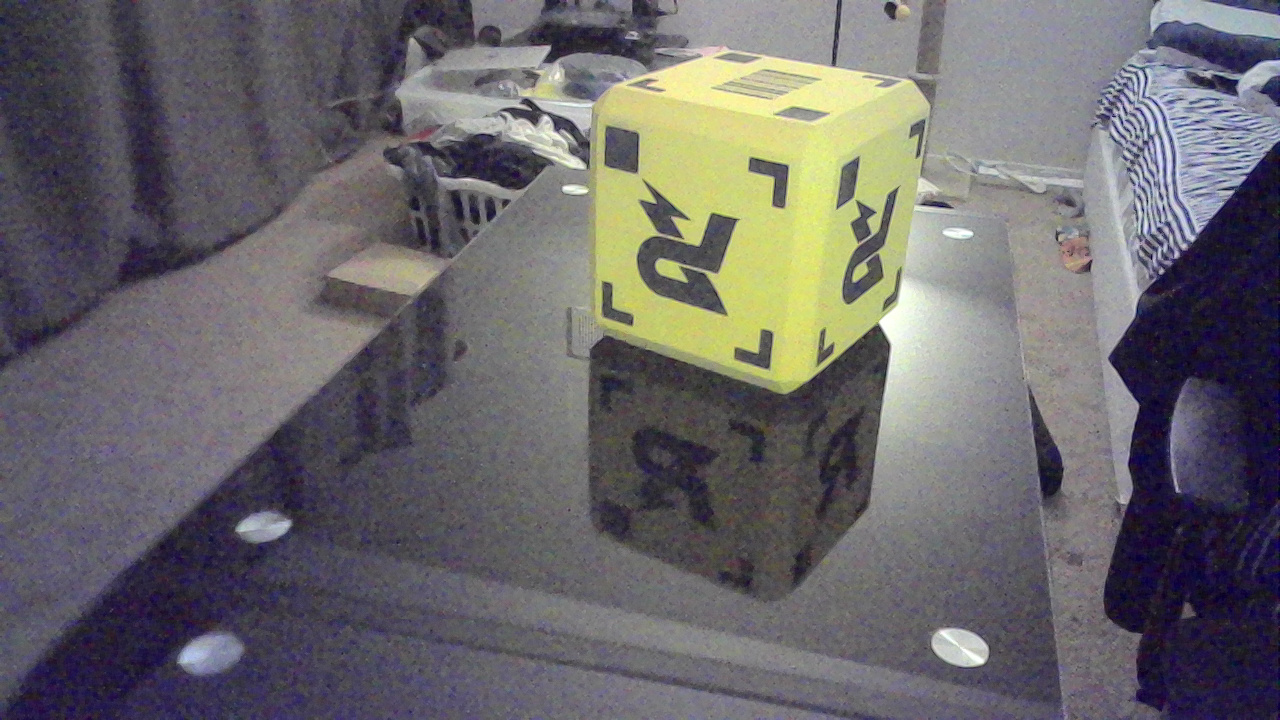Barcode: (721, 73, 829, 106)
R: (628, 196, 775, 317), (847, 194, 904, 309)
